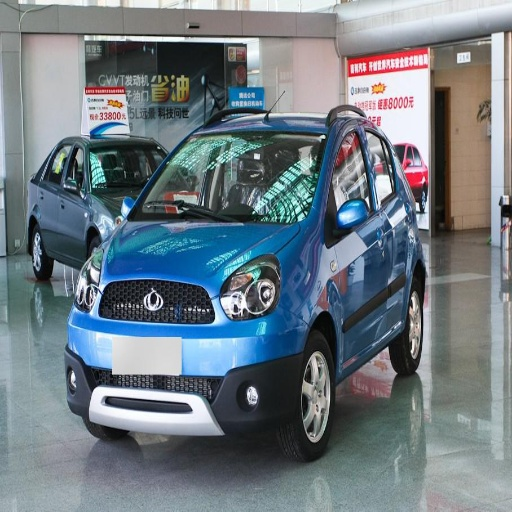front_bumper: (66, 282, 308, 433)
front_glass: (130, 128, 324, 221)
front_left_door: (329, 115, 383, 357)
front_left_light: (194, 255, 279, 319)
front_right_door: (59, 147, 83, 238)
